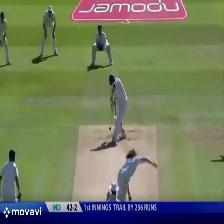ball: (107, 121, 113, 135)
batsman: (104, 73, 130, 149)
